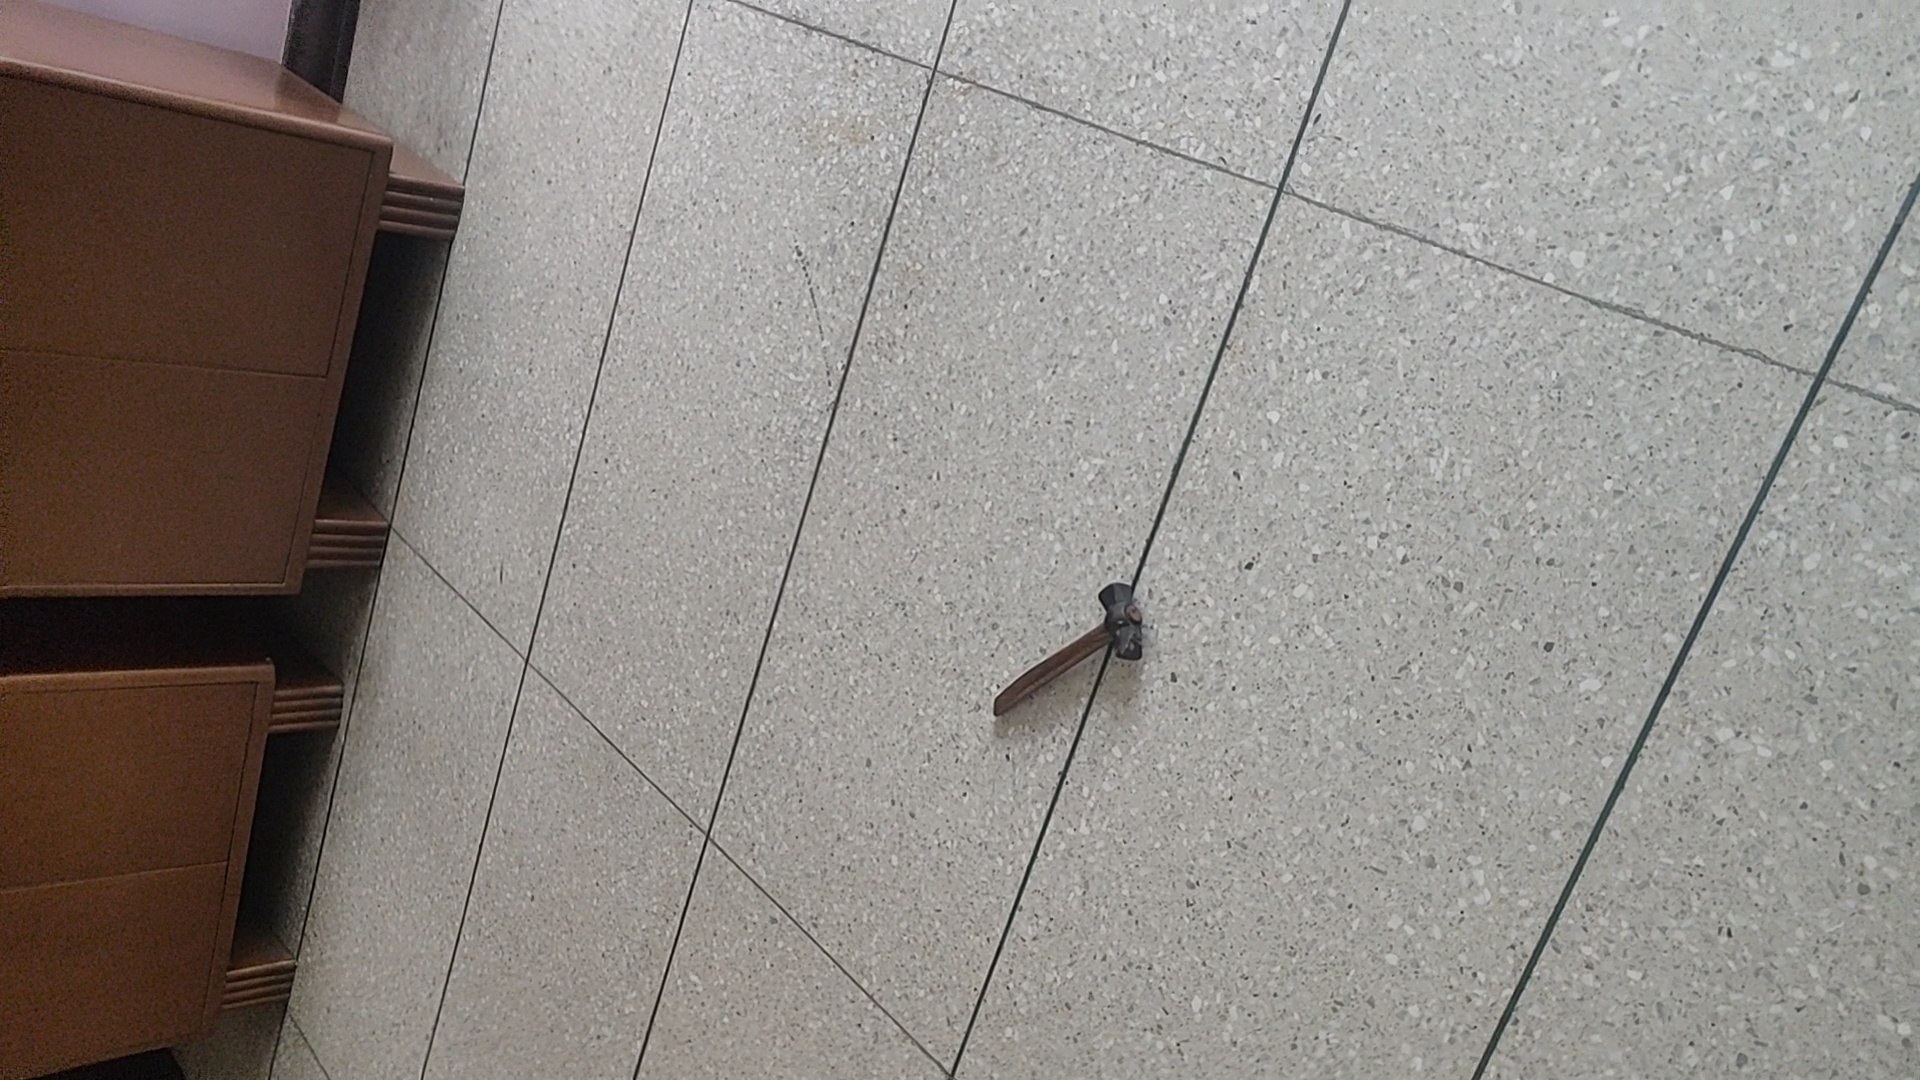hammer: (986, 578, 1150, 727)
